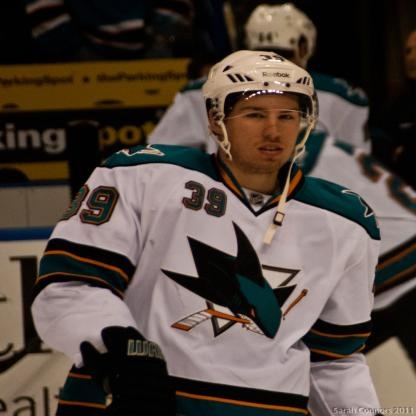Helmet: (213, 73, 323, 183), (245, 4, 318, 72)
